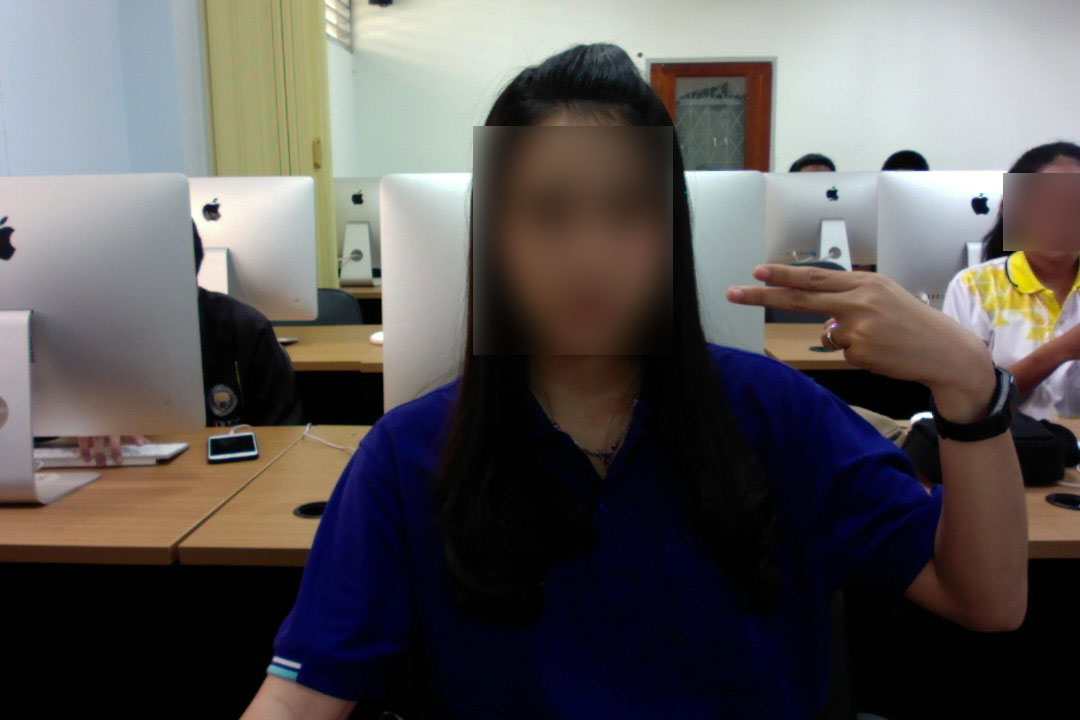hor: (721, 255, 1008, 386)
